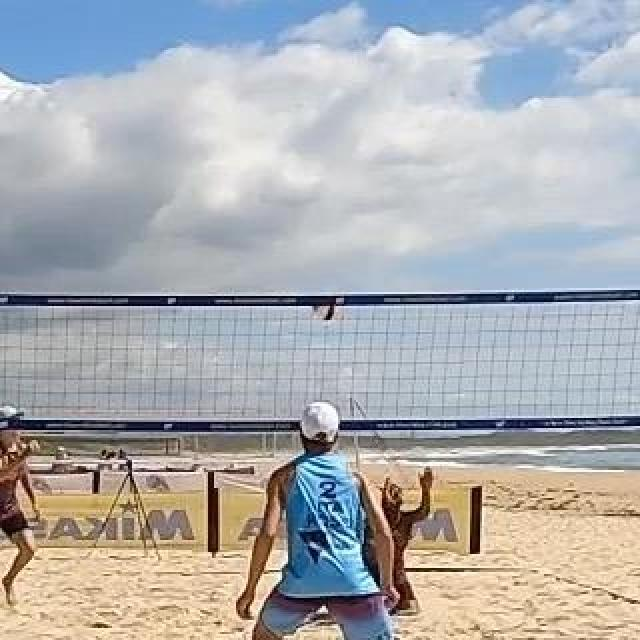volleyball: (312, 290, 342, 320)
